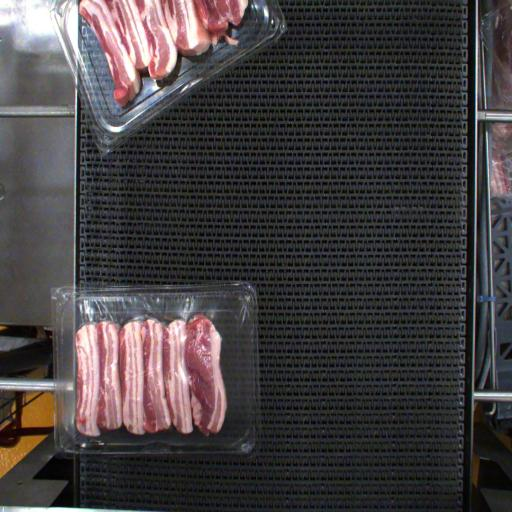unsealed: (58, 294, 256, 444)
